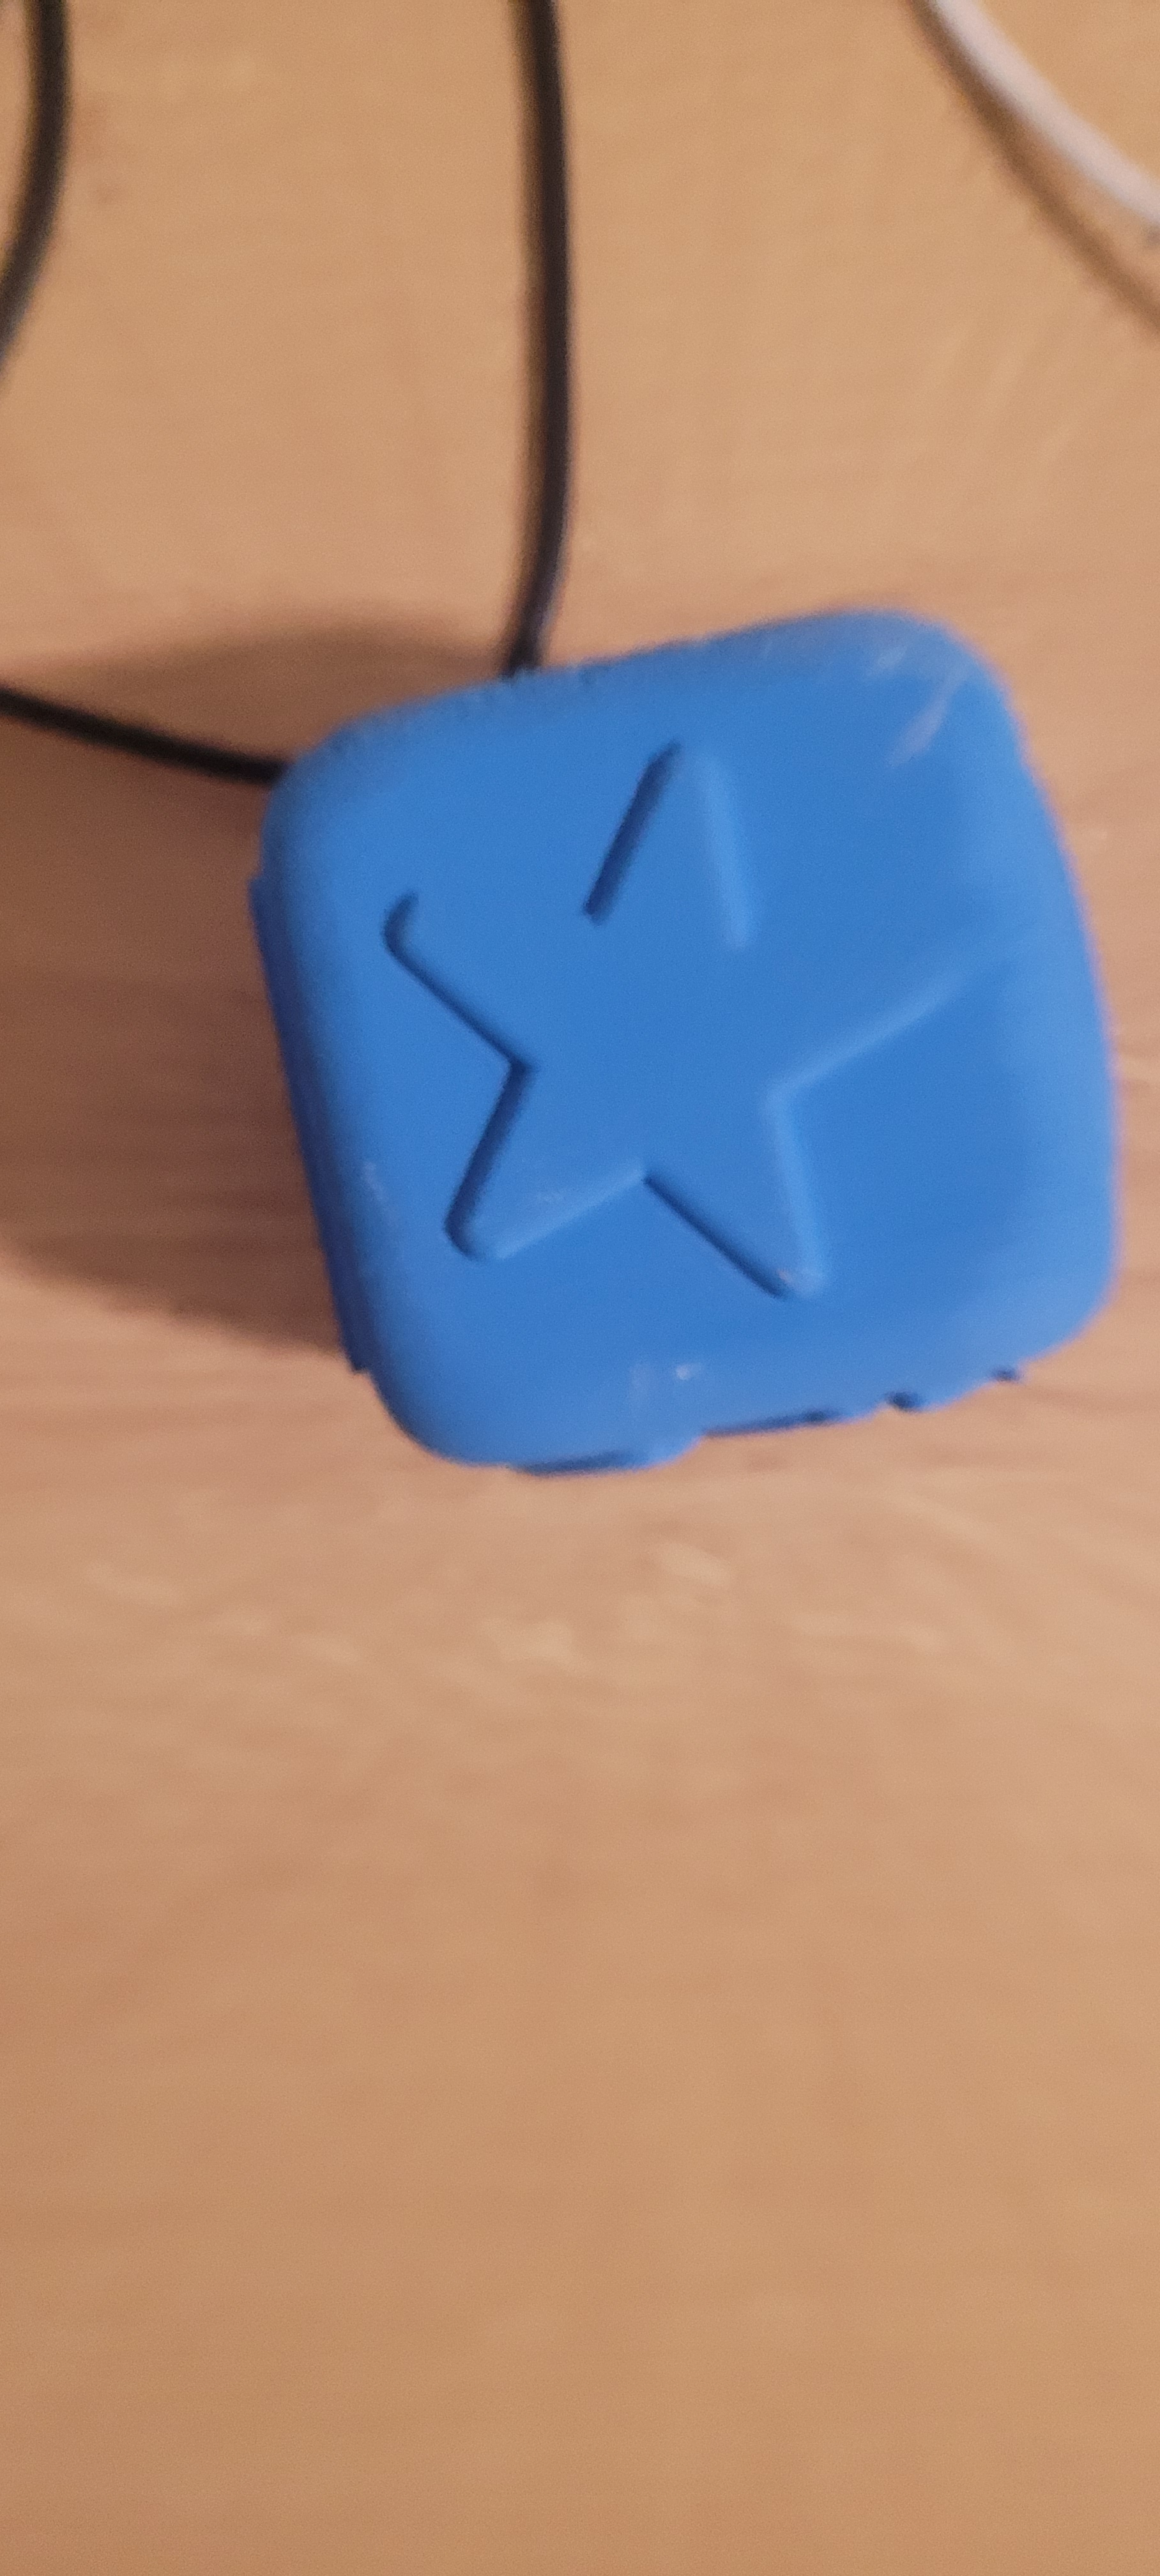Star: (327, 766, 1015, 1301)
